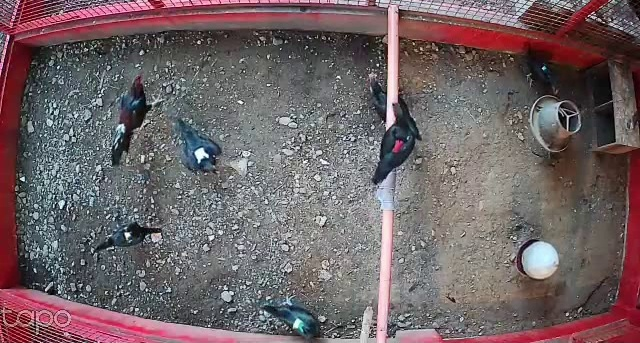Chicken: (371, 101, 423, 183), (172, 112, 232, 181), (366, 74, 424, 143), (90, 218, 165, 256), (521, 45, 564, 99)
Rooster: (109, 71, 167, 168)
Saddle_Color_Blue: (541, 66, 548, 70)
Saddle_Color_Red: (391, 140, 404, 152)
Saddle_Color_White: (194, 146, 208, 163)
Saddle_Color_Yellow: (124, 224, 130, 241)
